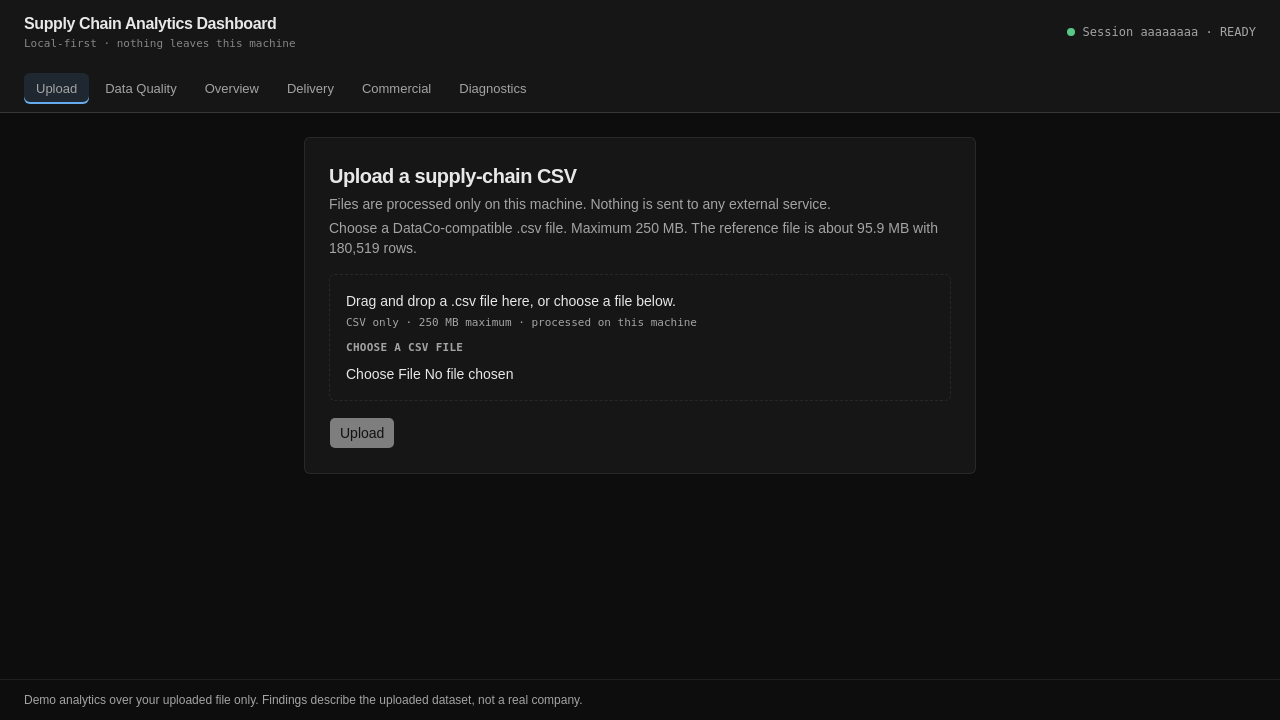
Test case: Phase-15B diagnostics rankings › numbers ranks by display order with unavailable unranked
The width and height of the screenshot is (1280, 720).
Click the button "Diagnostics" at (493, 88), box [447, 72, 538, 104]
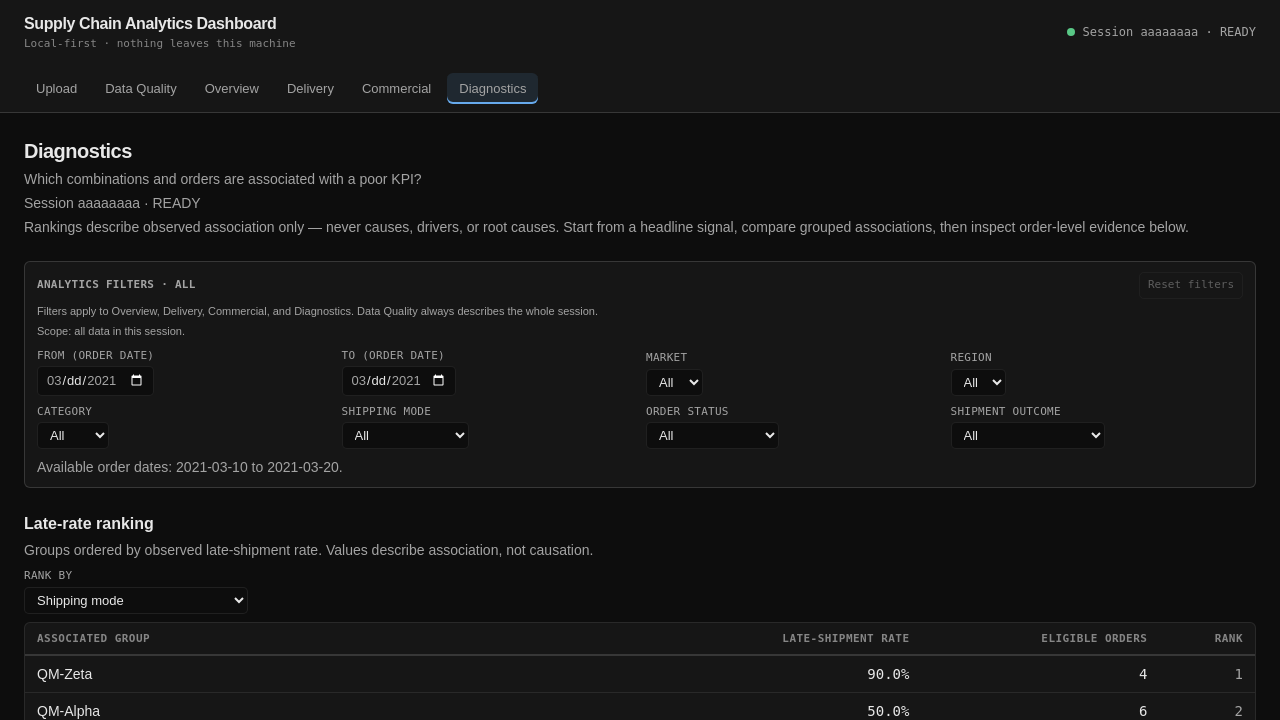
Now the heading "Diagnostics" is shown, box [24, 140, 132, 162]
Now the column heading "Rank" is shown, box [1159, 622, 1255, 655]
